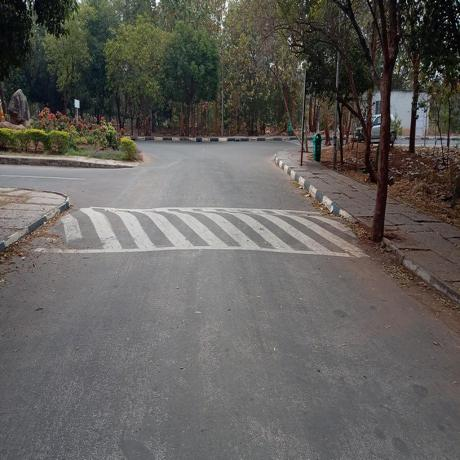Speed Bump: (29, 205, 364, 254)
